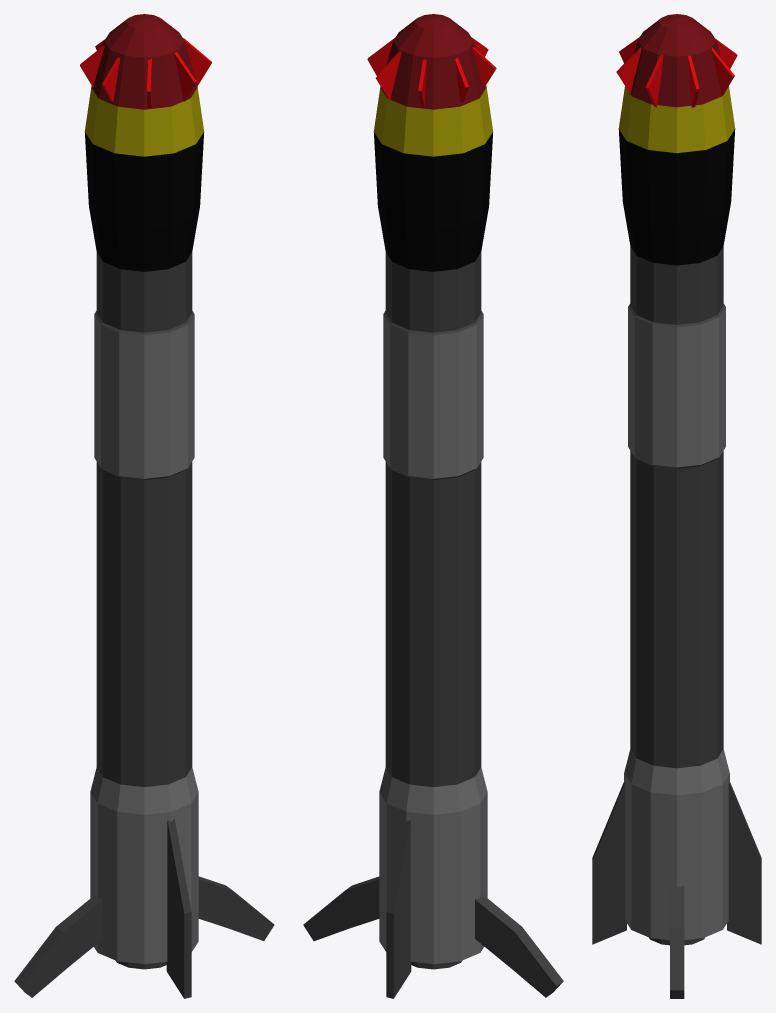
File: Alivasion_Ammunition_BaseMissile.fbx
3 views of the same model, side by side, from view 1: azimuth 30°, elevation 25°; view 2: azimuth 150°, elevation 25°; view 3: azimuth 270°, elevation 25° (orthographic). The views are drawn at different scales.
Parts seen in each view (by area): view 1: MissileAmmunition; view 2: MissileAmmunition; view 3: MissileAmmunition.
Part boxes in pixels (x1=…): MissileAmmunition: x1=14, y1=14, x2=274, y2=998; MissileAmmunition: x1=303, y1=14, x2=563, y2=998; MissileAmmunition: x1=592, y1=14, x2=761, y2=998.
Size of the model in its own units: 101 by 360 by 59.74.
